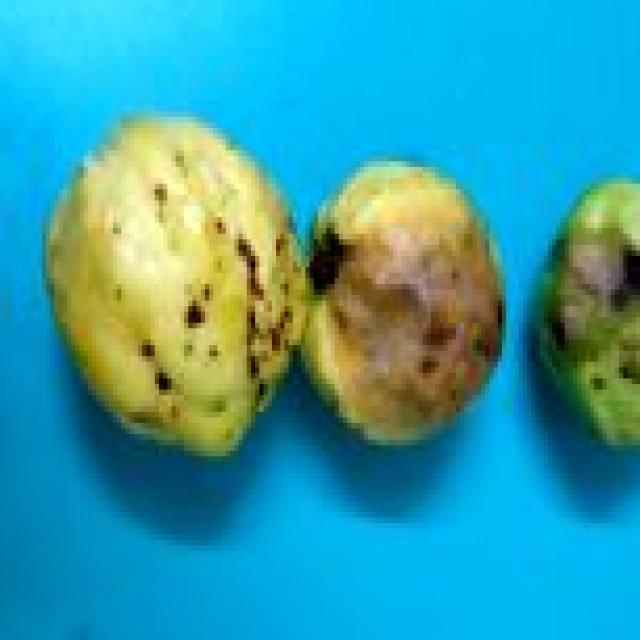Bad_Guava 0 day: (50, 117, 502, 455), (540, 181, 640, 446)
